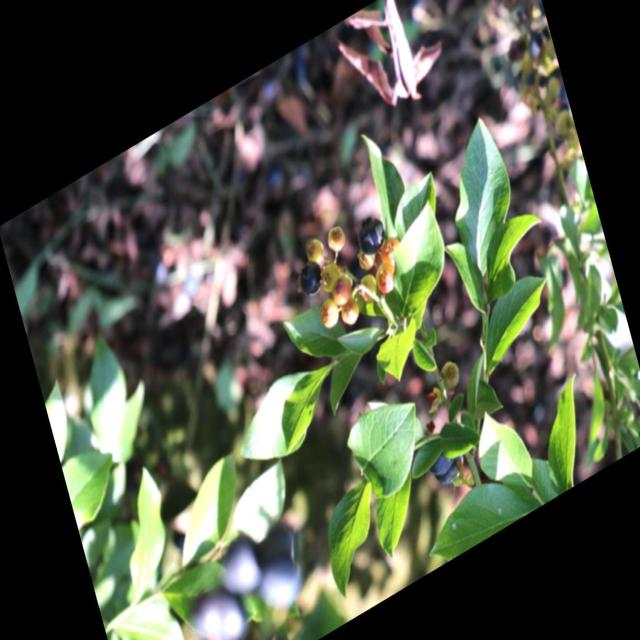blueberry: (250, 540, 310, 622), (353, 208, 389, 262), (293, 253, 328, 305), (433, 452, 468, 489), (425, 444, 453, 480)
blueberry-unripe: (375, 232, 403, 271), (354, 268, 381, 308), (299, 229, 327, 267), (372, 258, 398, 298), (317, 257, 343, 295), (338, 294, 362, 330), (324, 220, 348, 256), (319, 296, 343, 332), (328, 274, 352, 309), (356, 242, 378, 272)
